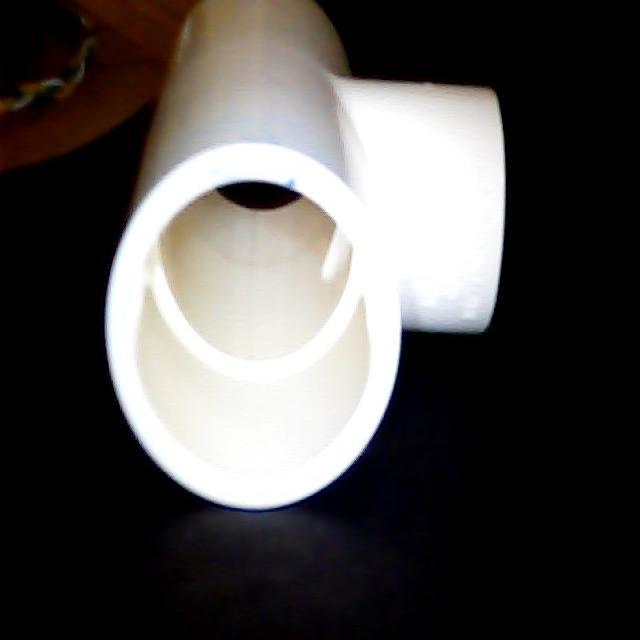T Joint: (104, 0, 505, 513)
